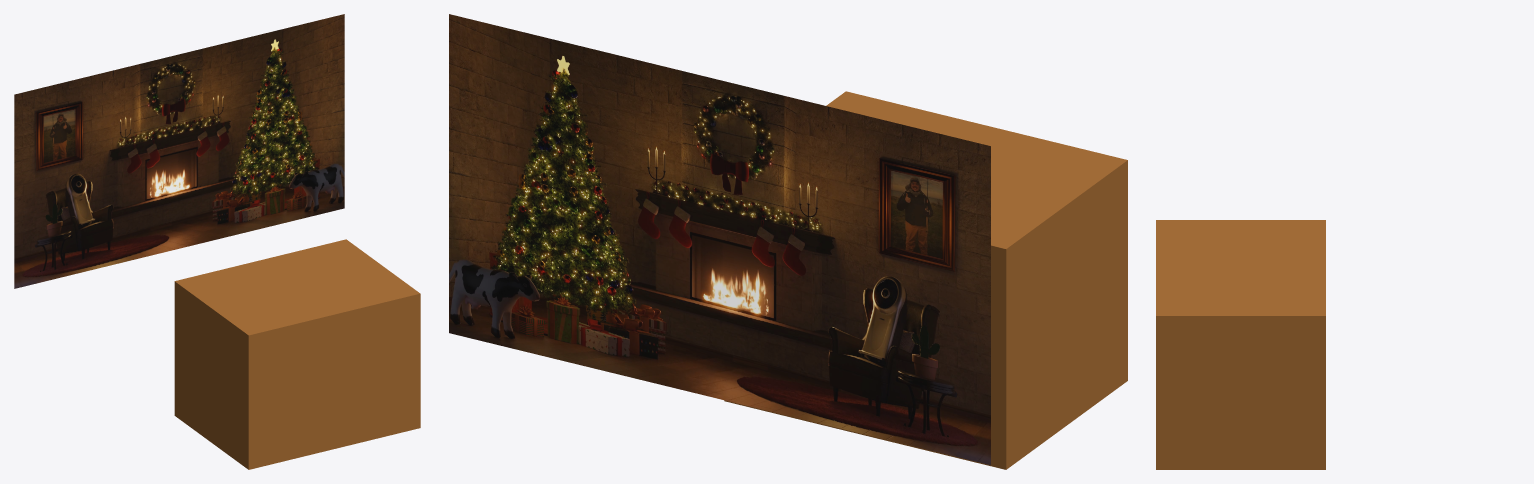
3 views of the same model, side by side, from view 1: azimuth 30°, elevation 25°; view 2: azimuth 150°, elevation 25°; view 3: azimuth 270°, elevation 25° (orthographic). The views are drawn at different scales.
Visible parts, largest first — view 1: Pasted image, Cube; view 2: Pasted image, Cube; view 3: Cube.
Boxes of the visible parts, x1,y1,x2,y2 form: Pasted image: [14, 14, 344, 288]; Cube: [174, 239, 420, 469]; Pasted image: [449, 14, 990, 465]; Cube: [724, 91, 1127, 469]; Cube: [1156, 220, 1325, 469].
Size of the model in its own units: 5.14 by 4.13 by 4.28.
2 materials, 1 textured.
